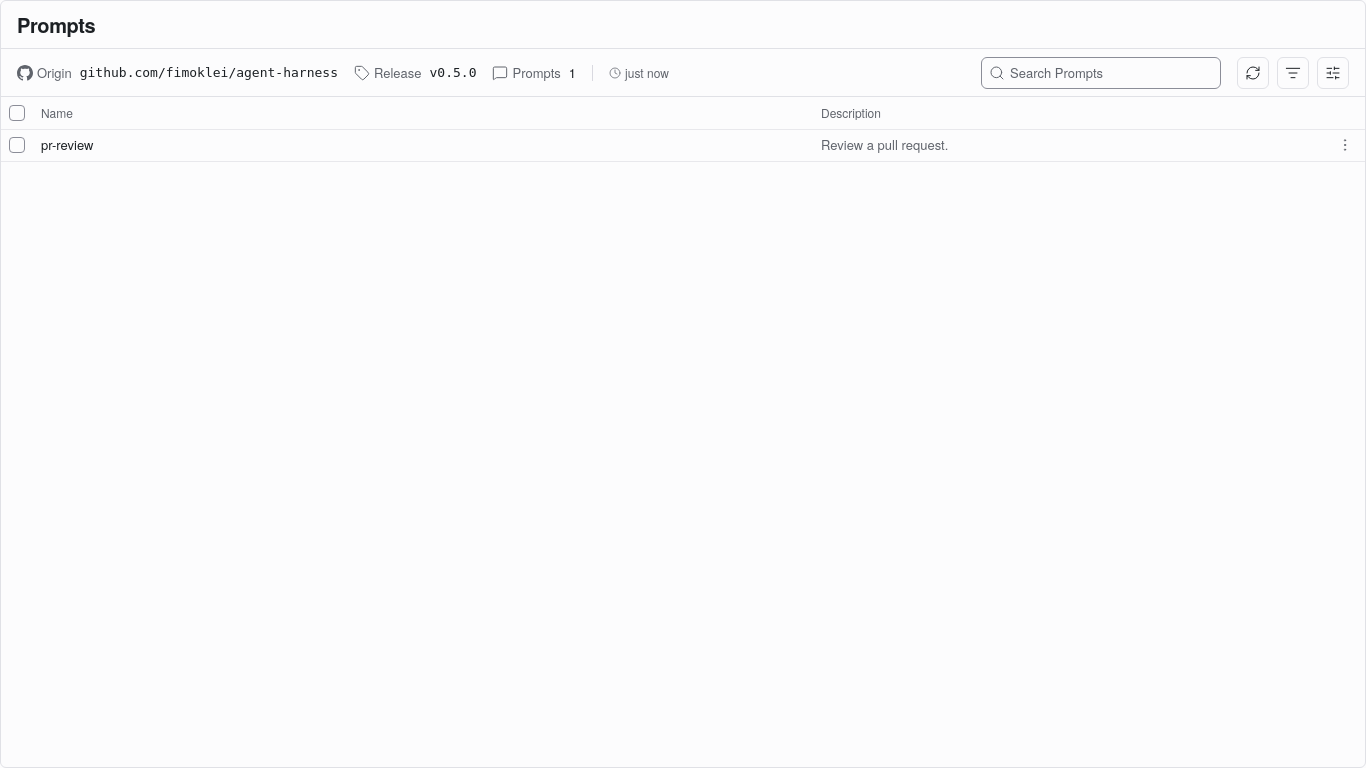
Scenario: Prompts — Edit prompt › fills the dialog from the Working Harness, with the name fixed and no source tabs
This screenshot has width=1366, height=768.
Click the button named "Actions for pr-review". click: {"x": 1345, "y": 144}
box: top-left (1333, 132), bottom-right (1357, 156)
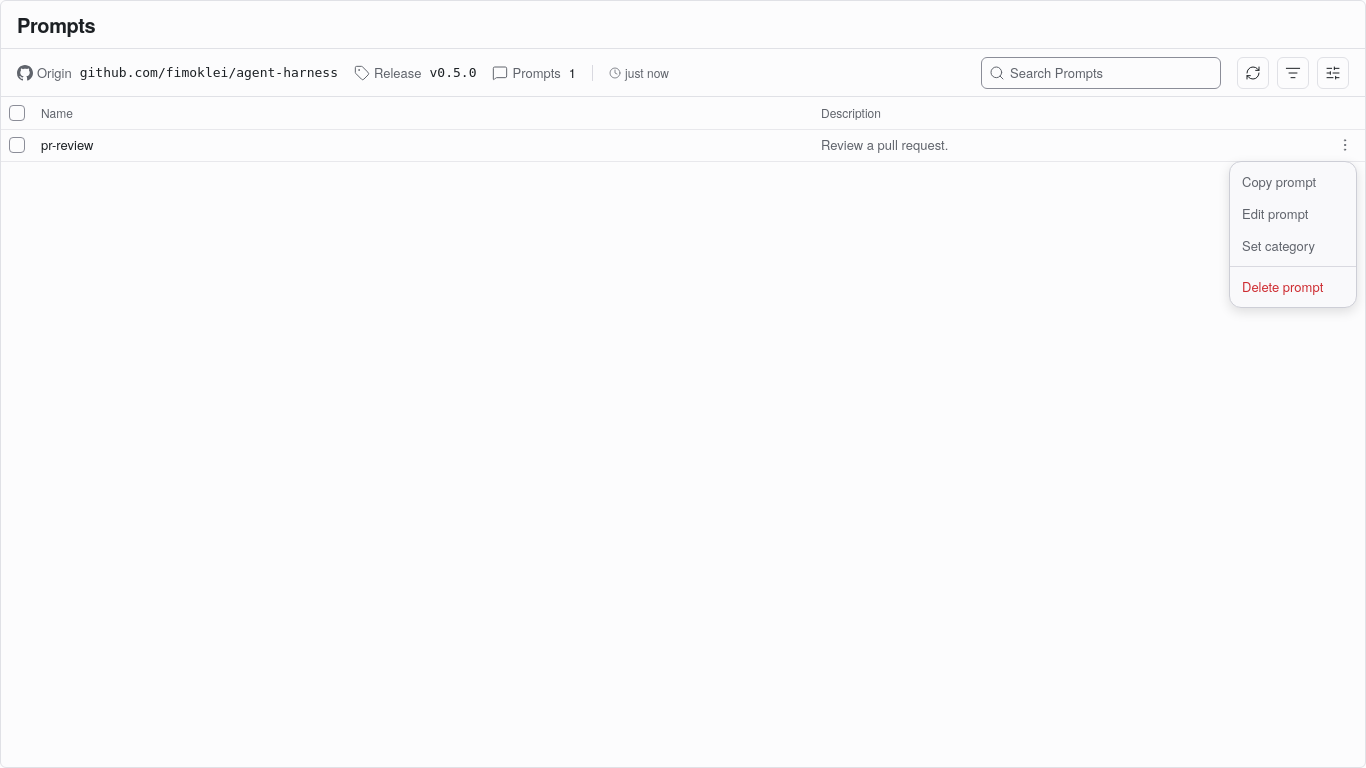
Click the menu item "Edit prompt". click: {"x": 1275, "y": 214}
box: top-left (1242, 204), bottom-right (1308, 223)
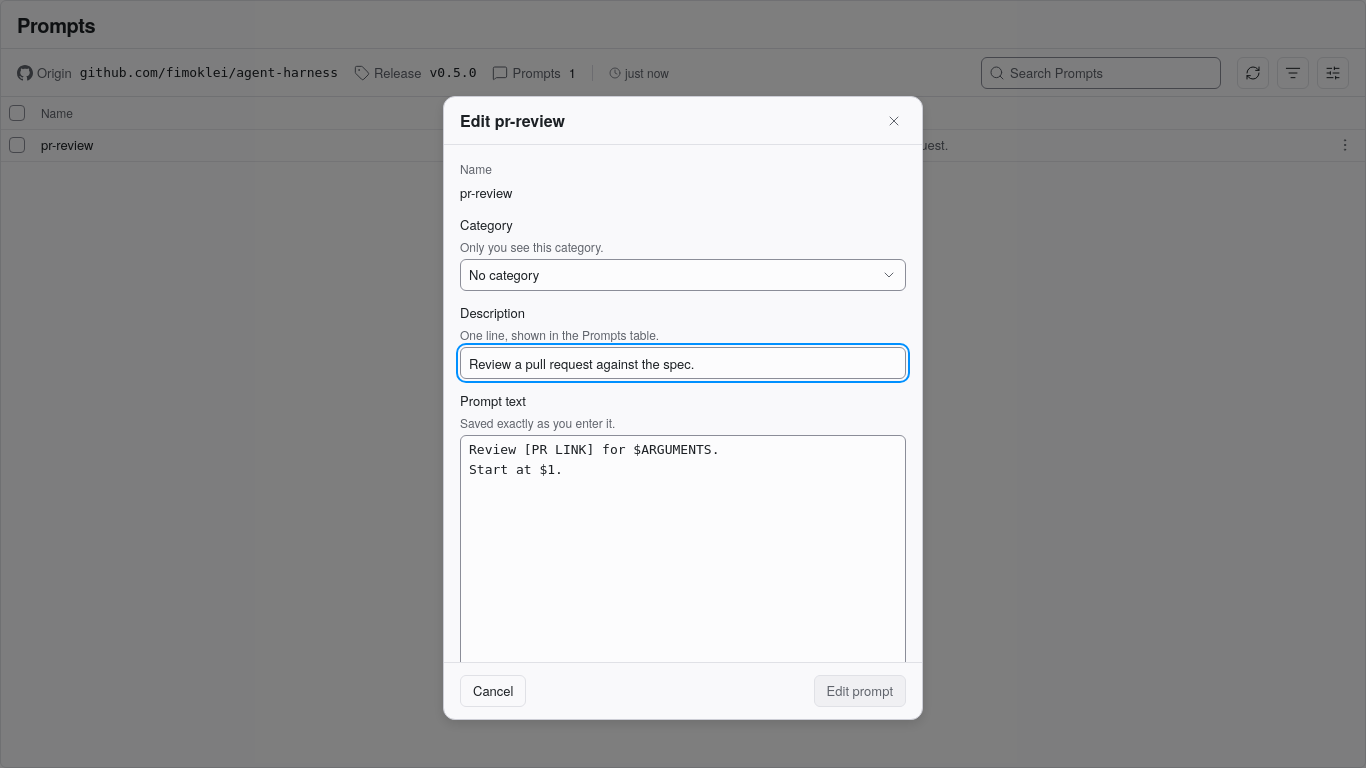
Result: the text "Name" is shown at top-left (460, 160), bottom-right (492, 177)
Result: the text "pr-review" is shown at top-left (460, 183), bottom-right (512, 202)
Result: the field labelled "Description" holds "Review a pull request against the spec." at top-left (460, 347), bottom-right (906, 379)
